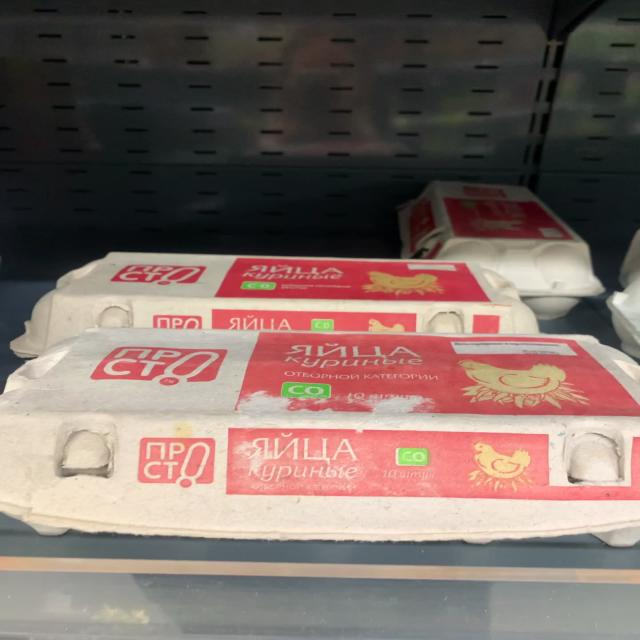egg box: (11, 328, 634, 544), (2, 254, 552, 364), (409, 172, 610, 321)
